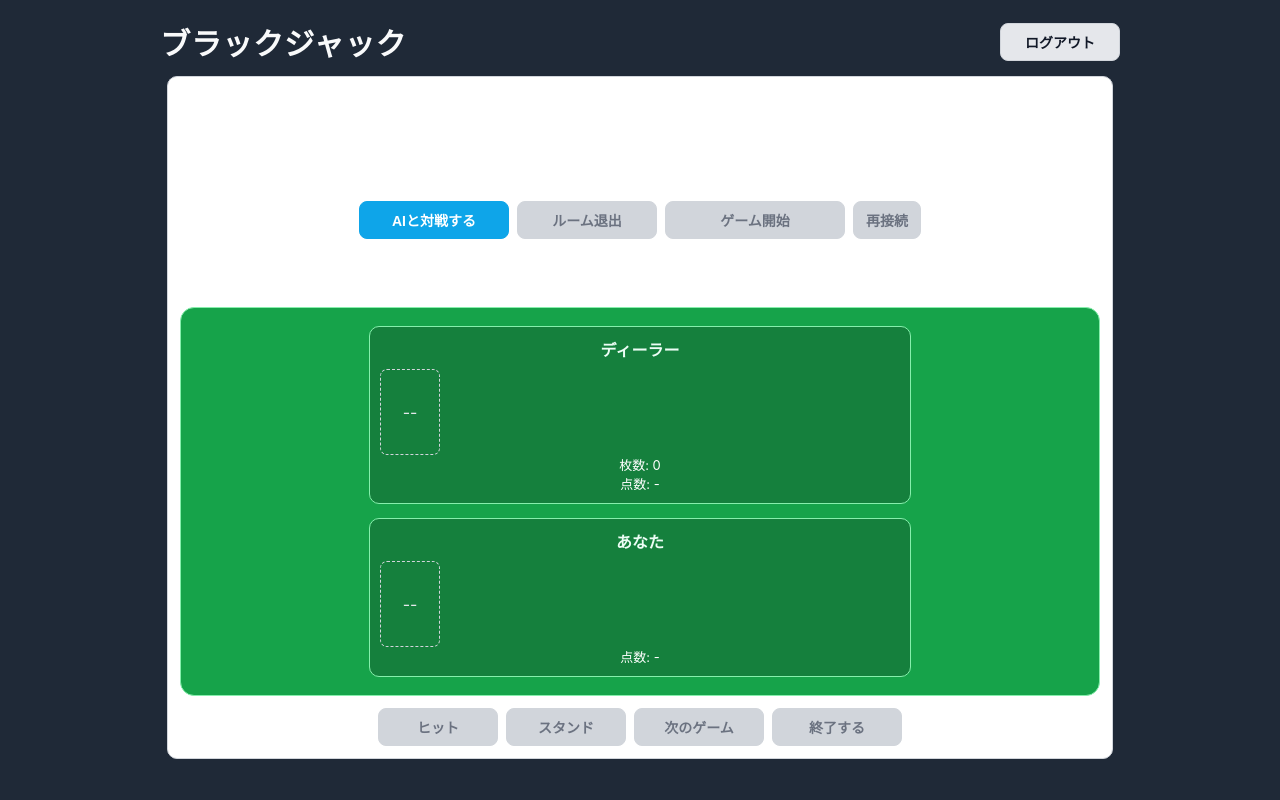
Test case: App › shows visible player turn timer from turn_deadline_at
Click the button "AIと対戦する" at (434, 220), box [359, 201, 509, 239]
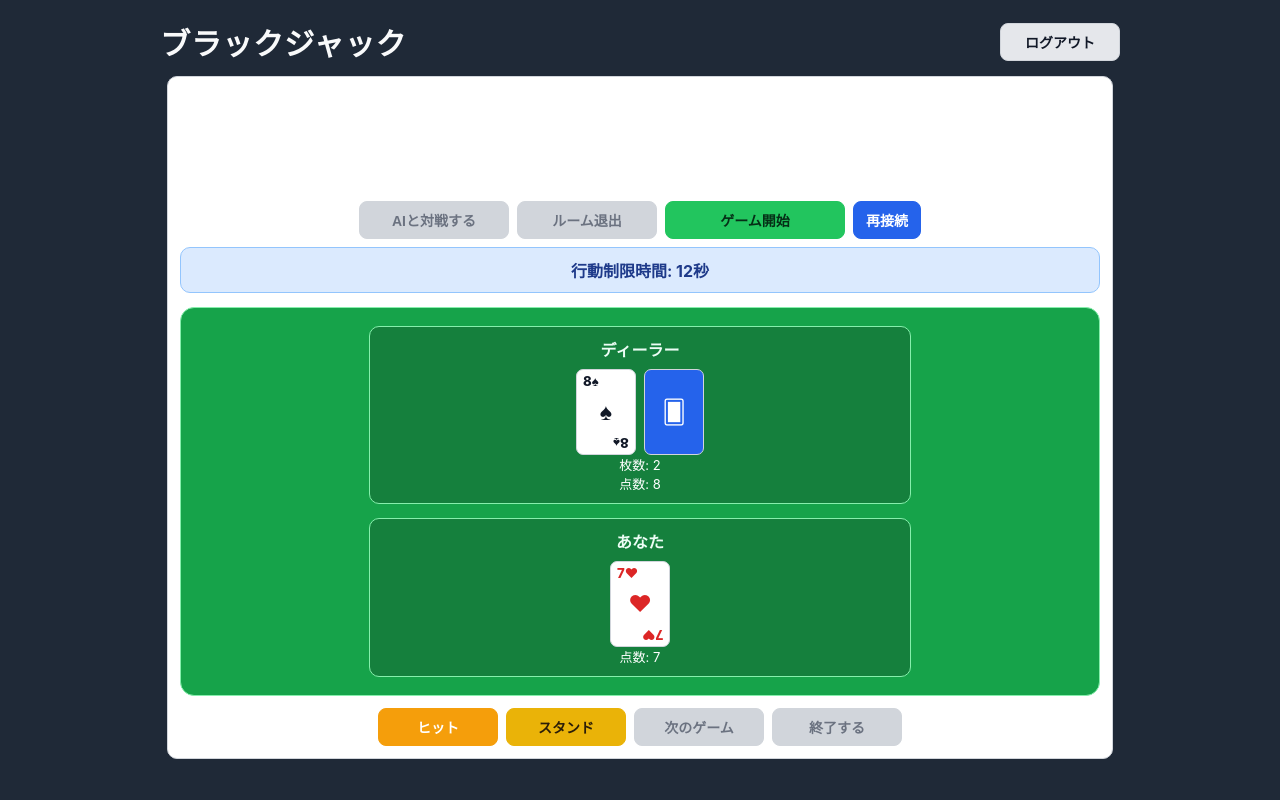
Result: the text "行動制限時間:" is shown at [571, 261, 672, 281]
